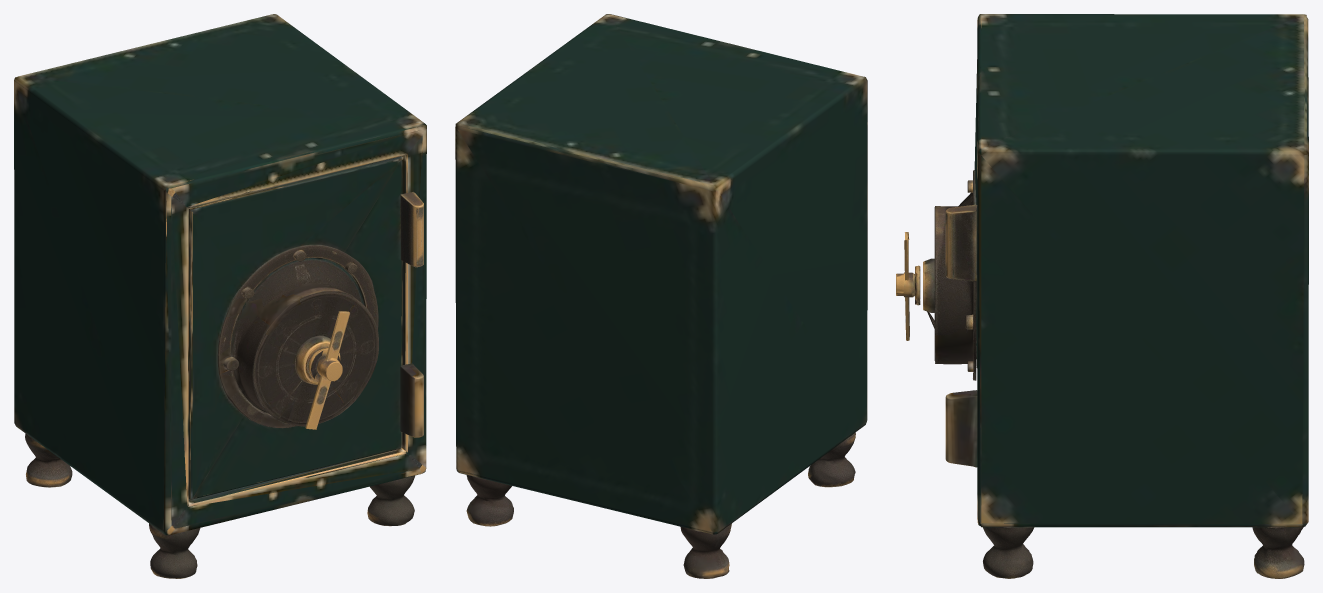
Rendered from iron_safe.glb.
The picture shows the model from 3 angles, left to right: view 1: azimuth 30°, elevation 25°; view 2: azimuth 150°, elevation 25°; view 3: azimuth 270°, elevation 25°; orthographic projection. The views are drawn at different scales.
Size of the model in its own units: 0.5183 by 0.75 by 0.6523.
Materials: 1 (1 with a texture image).
